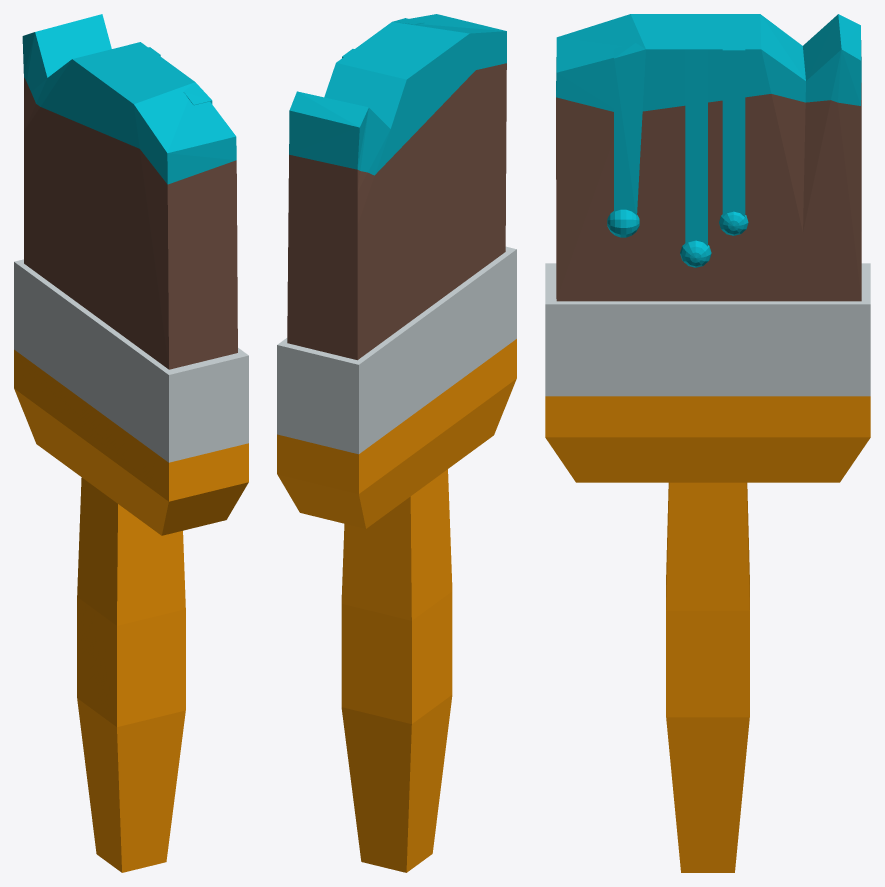
Rendered from Paint Brush.glb.
The picture shows the model from 3 angles, left to right: view 1: azimuth 30°, elevation 25°; view 2: azimuth 150°, elevation 25°; view 3: azimuth 270°, elevation 25°; orthographic projection. The views are drawn at different scales.
Parts seen in each view (by area): view 1: Node; view 2: Node; view 3: Node.
Boxes of the visible parts, x1,y1,x2,y2 form: Node: [14, 14, 248, 872]; Node: [277, 14, 516, 872]; Node: [545, 14, 870, 872].
Bounding box in the file's own units: 0.1399 × 1.24 × 0.4402.
